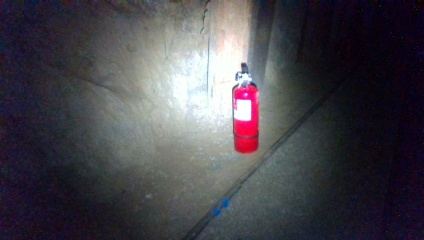fire_extinguisher: (232, 61, 261, 154)
